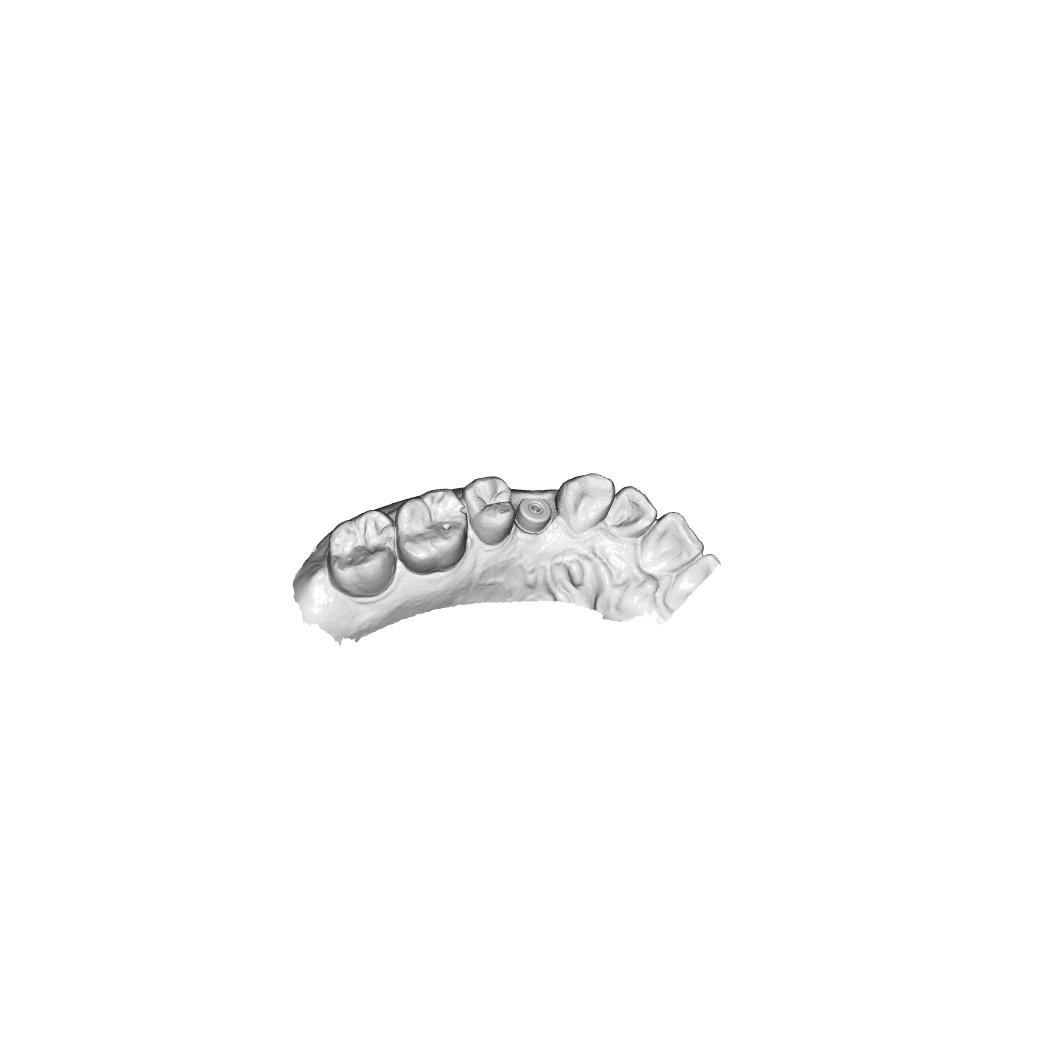canine: (556, 470, 614, 532)
implant: (515, 495, 554, 535)
incisor: (631, 510, 707, 574), (605, 485, 660, 537)
molar: (392, 488, 469, 577), (326, 508, 398, 598)
premolar: (461, 474, 518, 545)
